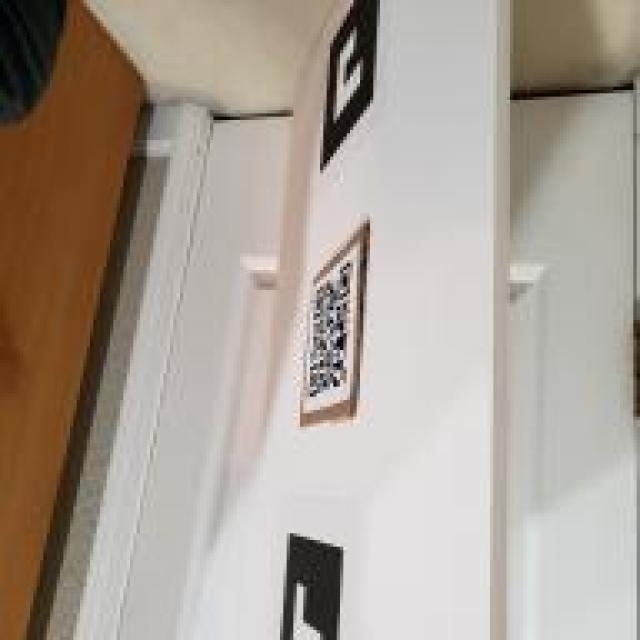qr_code: (309, 260, 353, 398)
